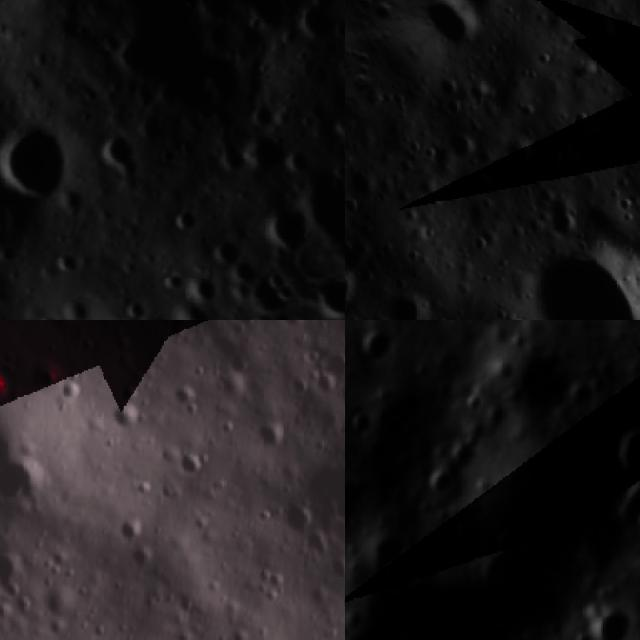crater: (0, 0, 340, 123), (491, 199, 640, 320), (0, 103, 88, 226), (232, 117, 311, 195), (252, 192, 330, 268), (292, 446, 345, 546), (85, 128, 152, 194), (0, 427, 46, 521), (485, 120, 549, 184), (367, 269, 445, 320), (0, 164, 36, 263), (576, 1, 631, 55), (435, 9, 484, 57), (345, 243, 375, 320), (271, 498, 308, 546), (609, 425, 640, 480), (173, 441, 210, 484), (102, 396, 140, 435), (0, 550, 29, 601), (606, 486, 640, 529), (248, 416, 288, 452), (318, 351, 345, 404), (117, 550, 153, 578), (102, 516, 134, 546), (358, 328, 392, 356), (416, 467, 452, 493), (600, 606, 626, 640), (456, 388, 486, 414), (386, 565, 414, 590), (350, 404, 370, 438), (447, 443, 469, 463), (534, 320, 578, 325)
